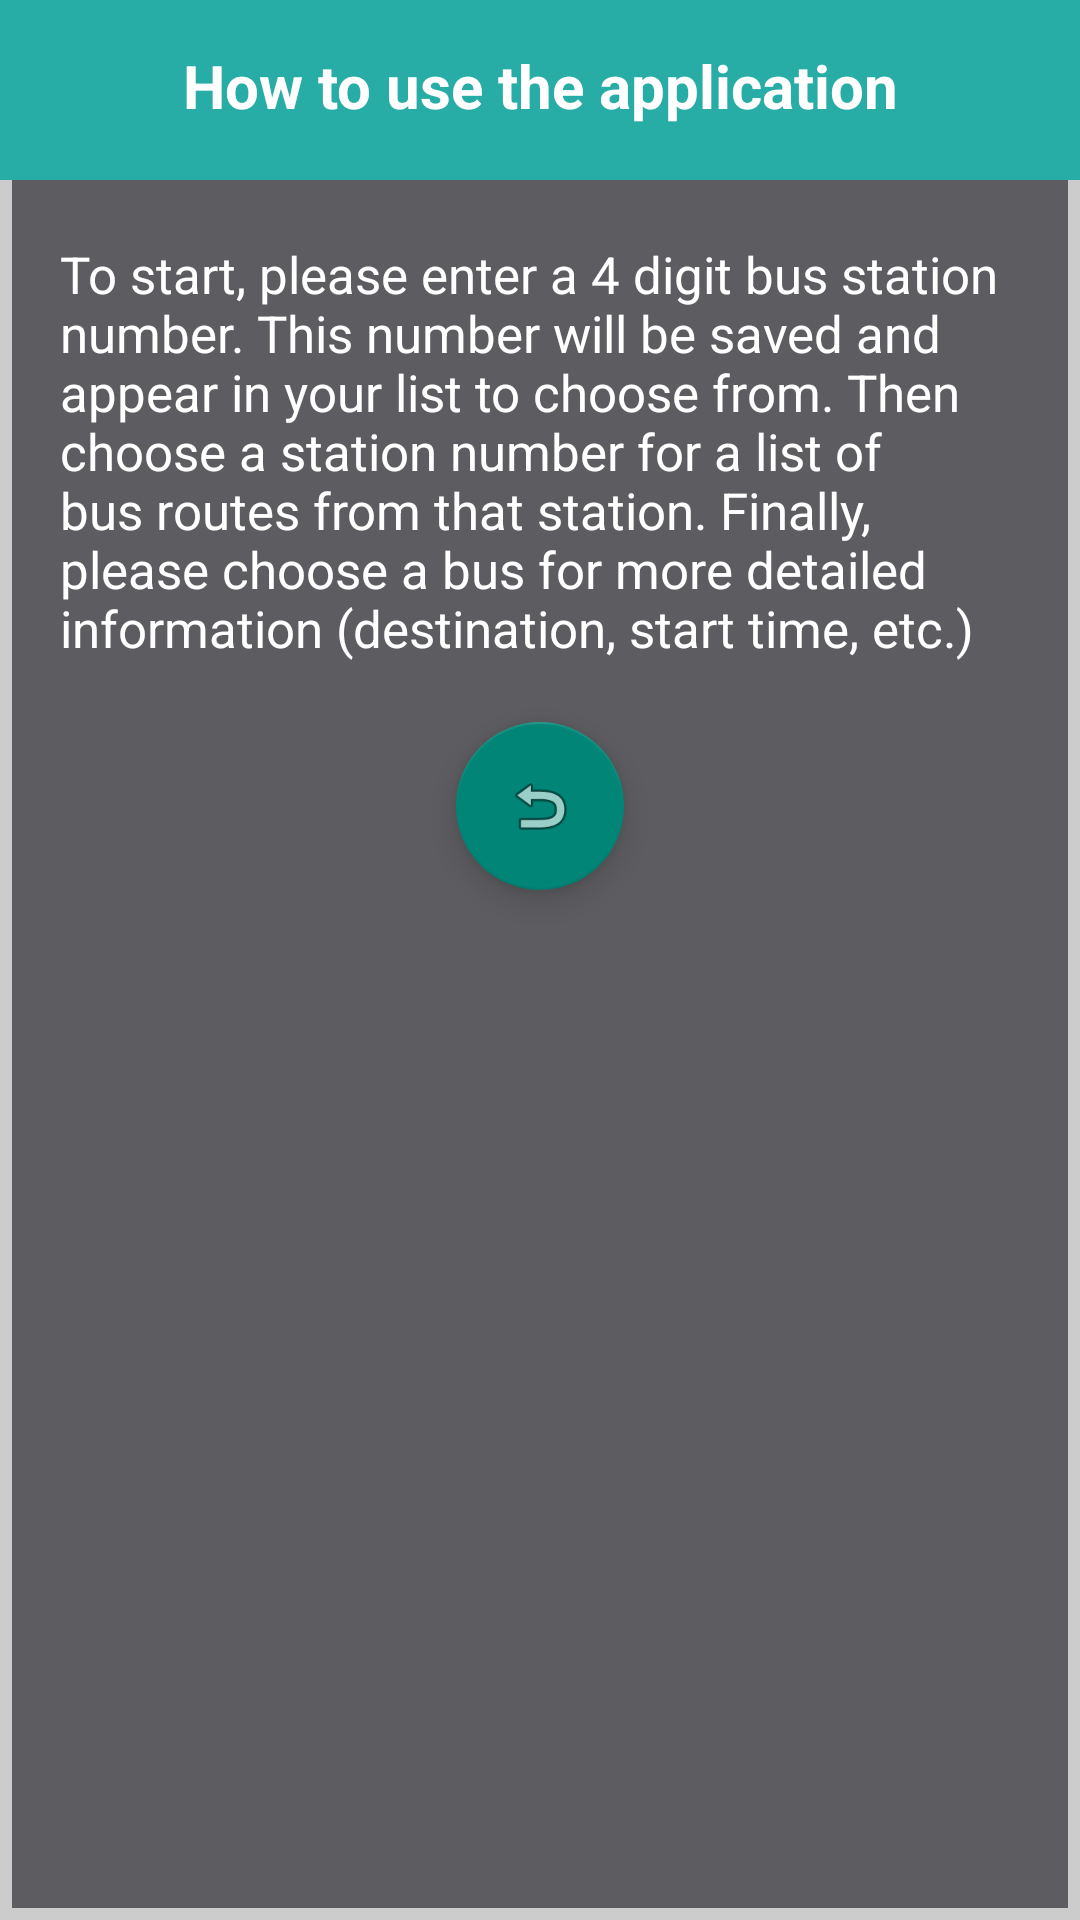

Where to tap for icons on this 1080*1920 app screen, as point (x, y):
revert: point (540, 806)
